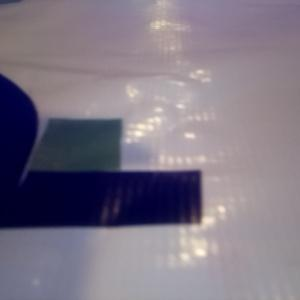top_right: (1, 118, 121, 226)
